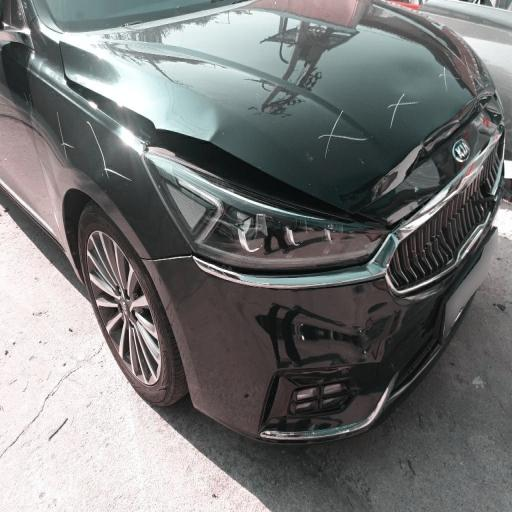broken: (249, 246, 379, 450)
dent: (76, 54, 377, 277)
